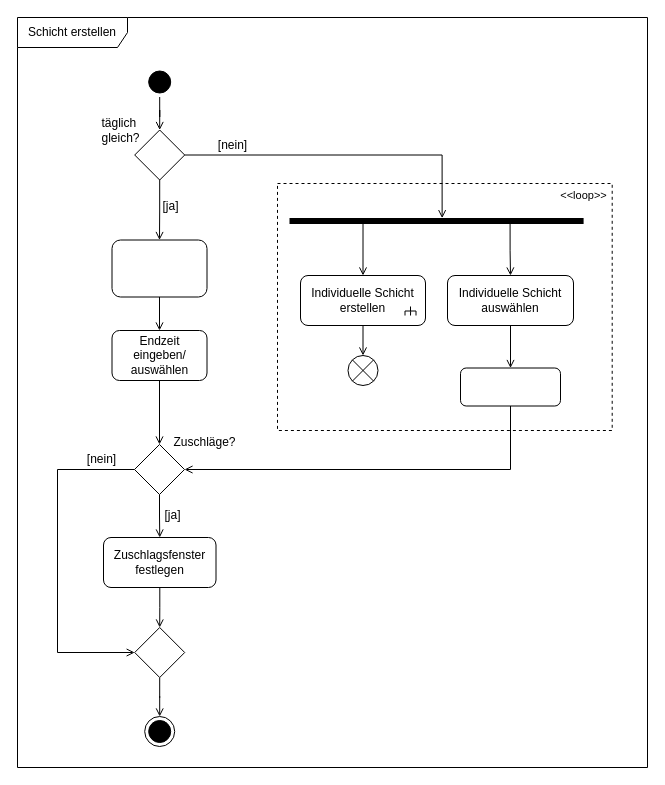
The diagram is 665 pixels wide and 785 high, and some of its shapes have lost their labels. Each missing label, with the box of its shape:
Startzeit eingeben/ auswählen: (111, 239, 207, 297)
Tage auswählen: (460, 367, 560, 406)
